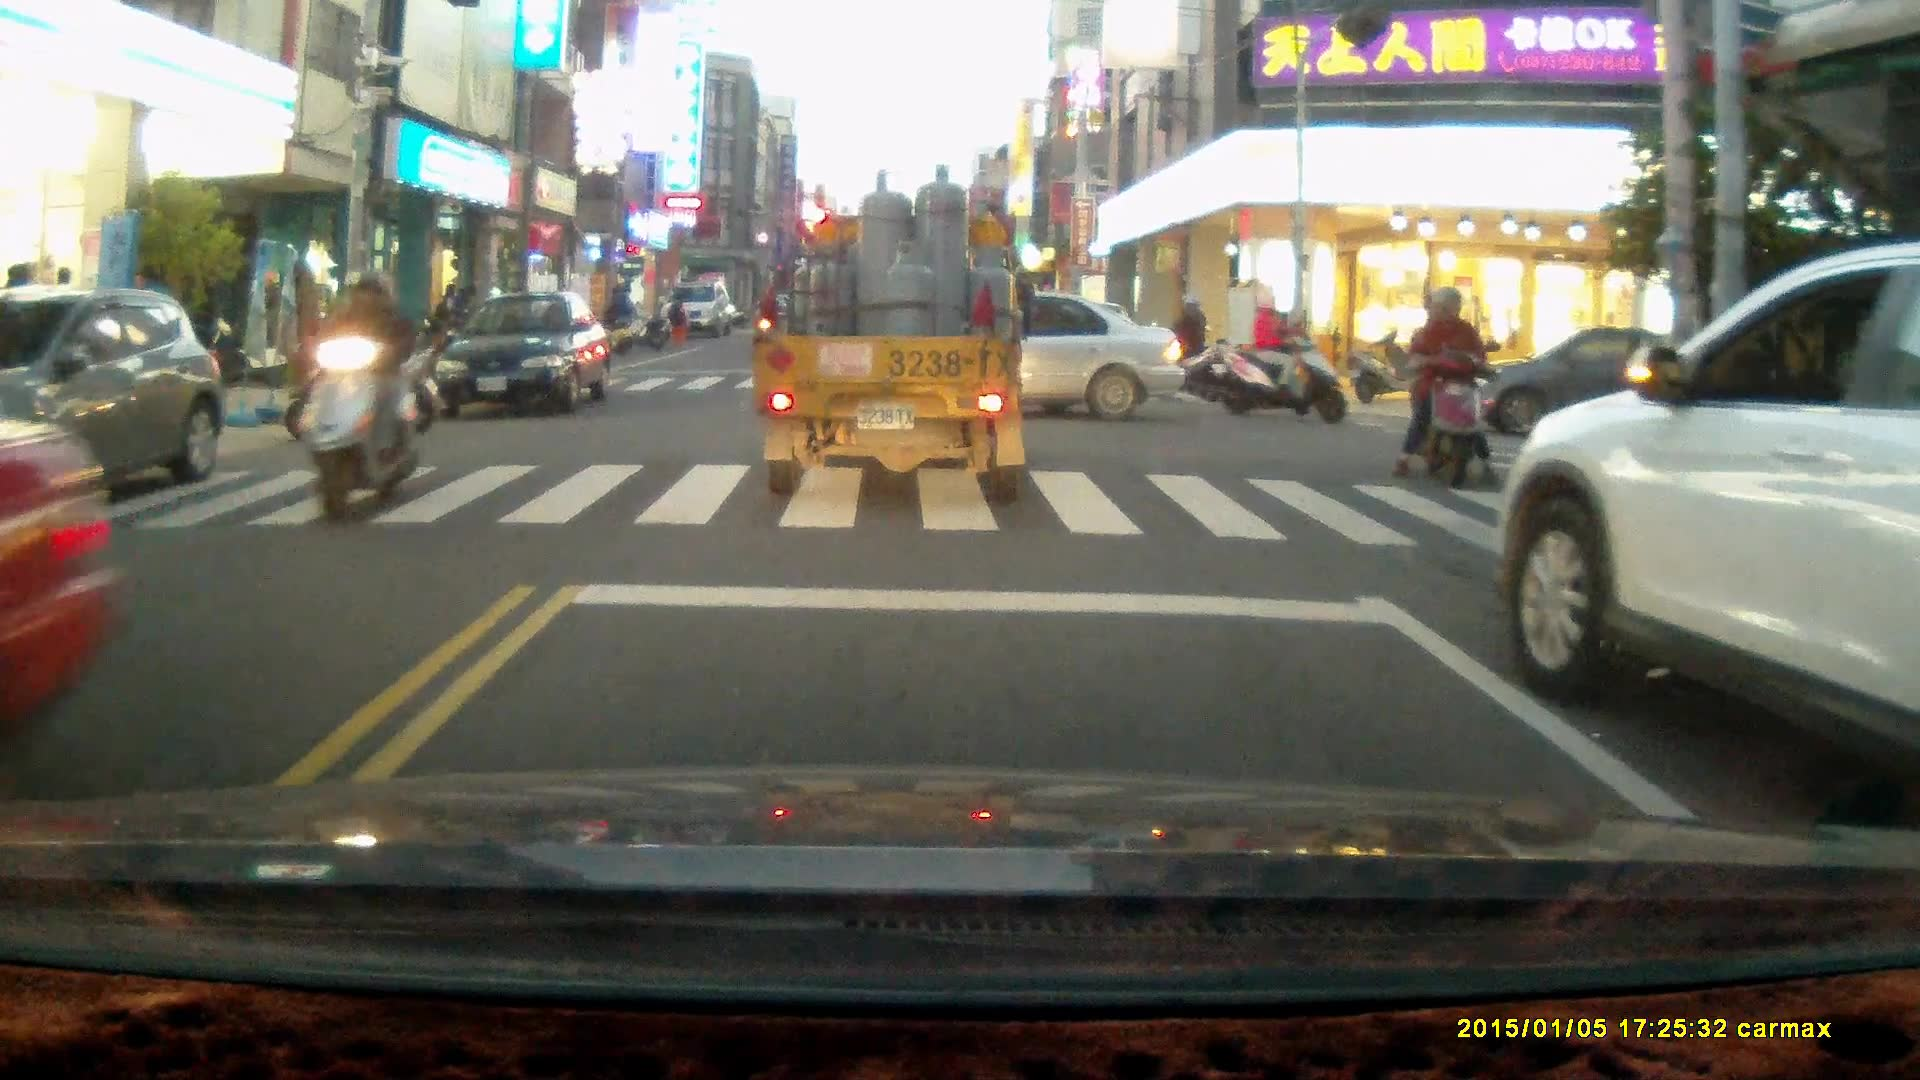pedestrian: (609, 280, 636, 343), (667, 289, 689, 346)
rider: (295, 264, 421, 520), (1390, 285, 1507, 494), (1215, 291, 1349, 422), (1128, 288, 1223, 402)
vehicle: (1498, 241, 1920, 820), (759, 176, 1029, 516), (795, 289, 1186, 421), (436, 293, 614, 415), (660, 282, 731, 336)
